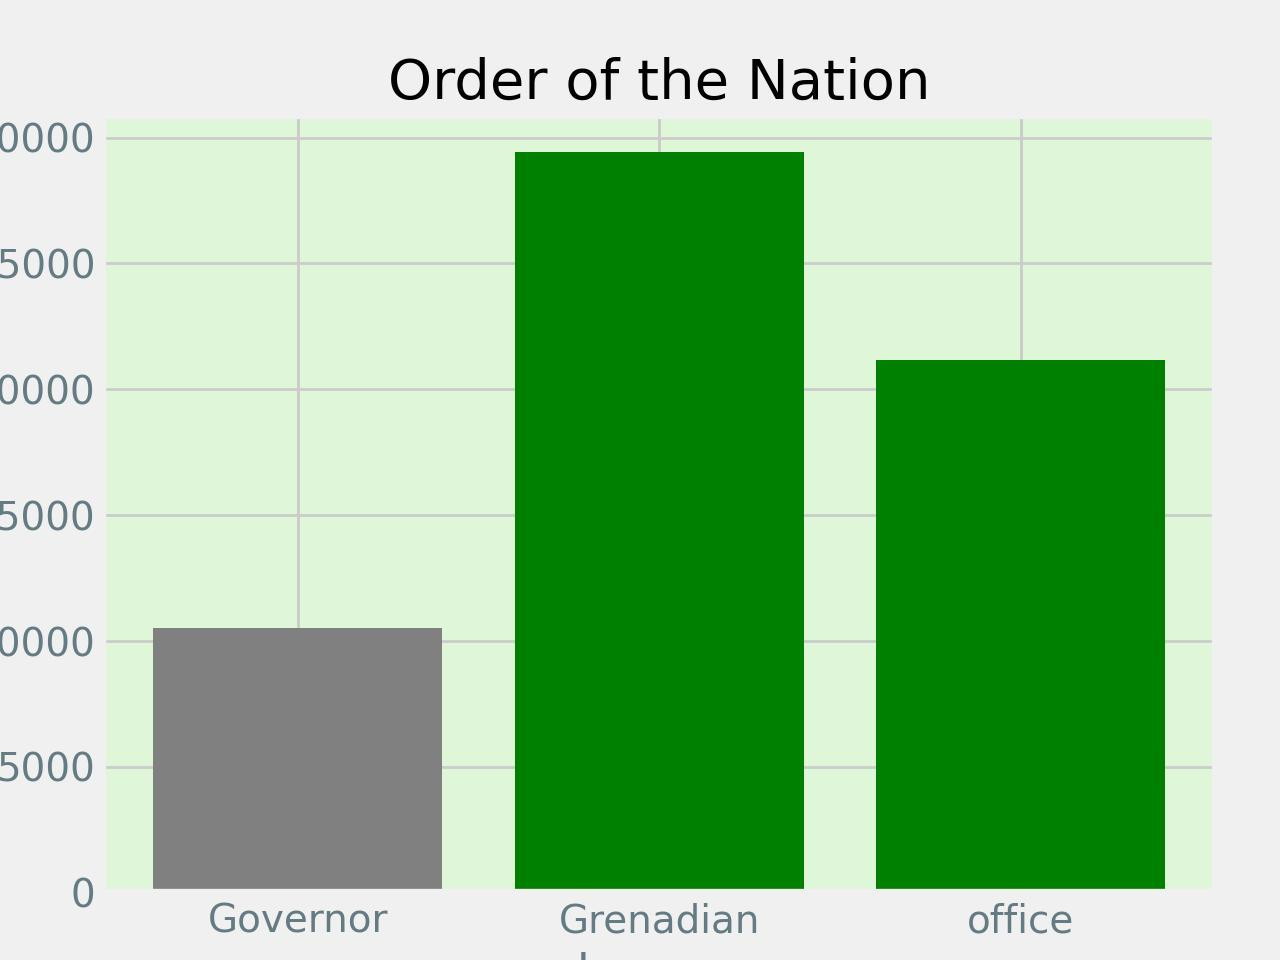axis: (0, 122, 95, 916)
rectangle: (514, 152, 803, 893), (877, 360, 1165, 892), (153, 628, 442, 892)
